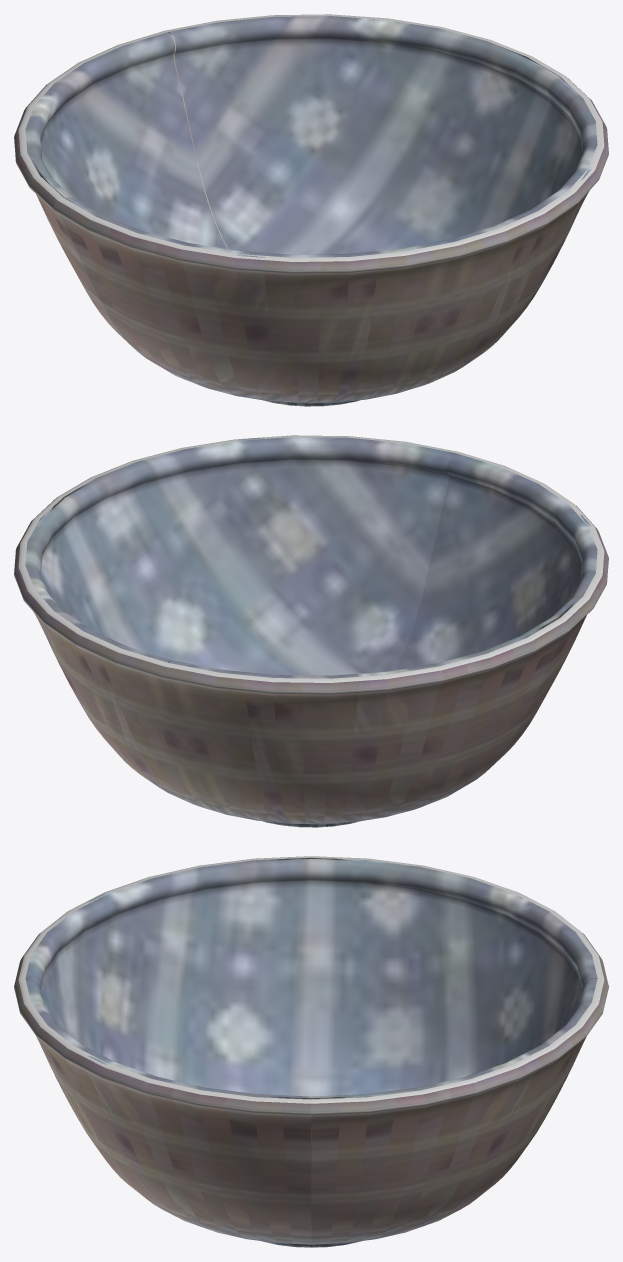
Rendered from bowl.fbx.
3 renders of one model, top to bottom at view 1: azimuth 30°, elevation 25°; view 2: azimuth 150°, elevation 25°; view 3: azimuth 270°, elevation 25°, orthographic.
Visible parts, largest first — view 1: Bowl__interior_, Bowl__exterior_; view 2: Bowl__interior_, Bowl__exterior_; view 3: Bowl__interior_, Bowl__exterior_.
Part boxes in pixels (box(x1,y1,x2,y2)): Bowl__interior_: box(25, 16, 597, 257); Bowl__exterior_: box(14, 14, 608, 406); Bowl__interior_: box(25, 437, 597, 678); Bowl__exterior_: box(14, 435, 608, 827); Bowl__interior_: box(25, 857, 597, 1099); Bowl__exterior_: box(14, 856, 608, 1247).
Size of the model in its own units: 1.41 by 0.608 by 1.41.
